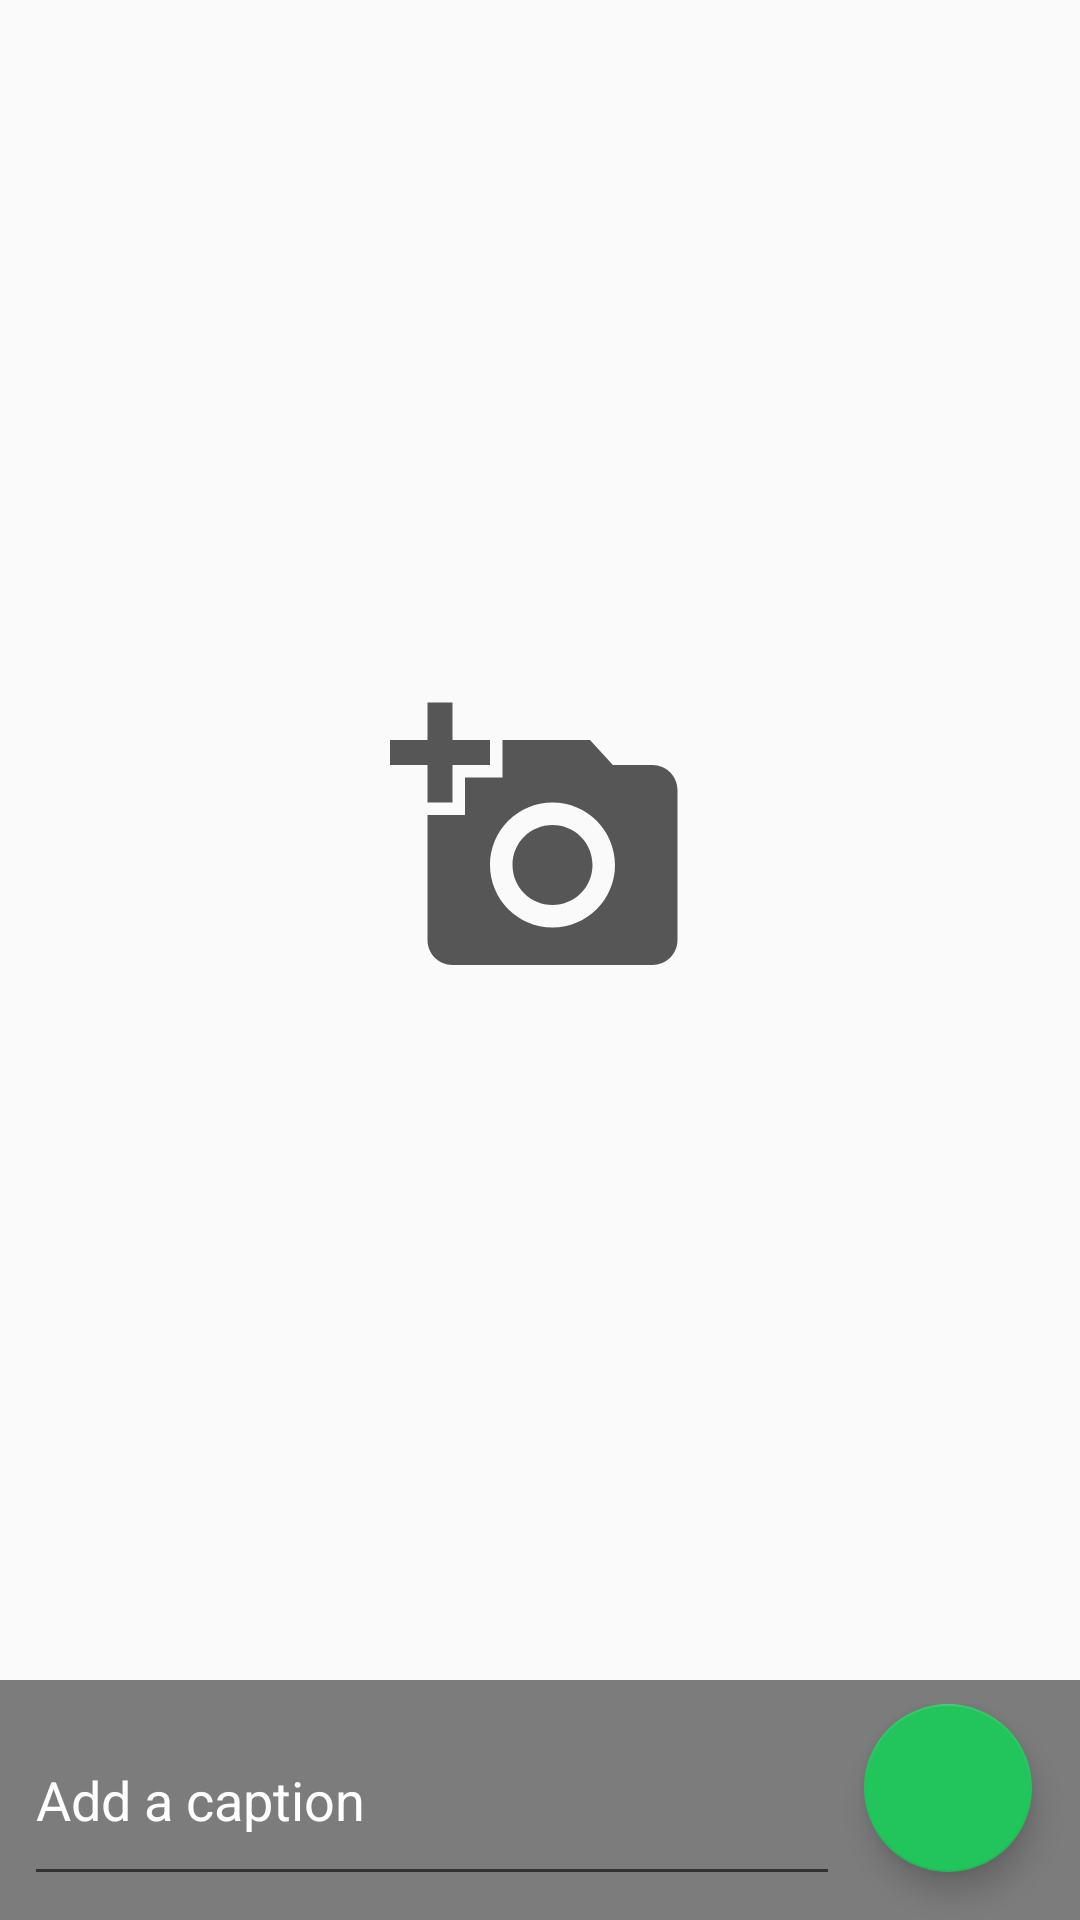

Where to tap for icons on this 1080w x 1920h app screen, as (x,y):
add photo: (534,833)
